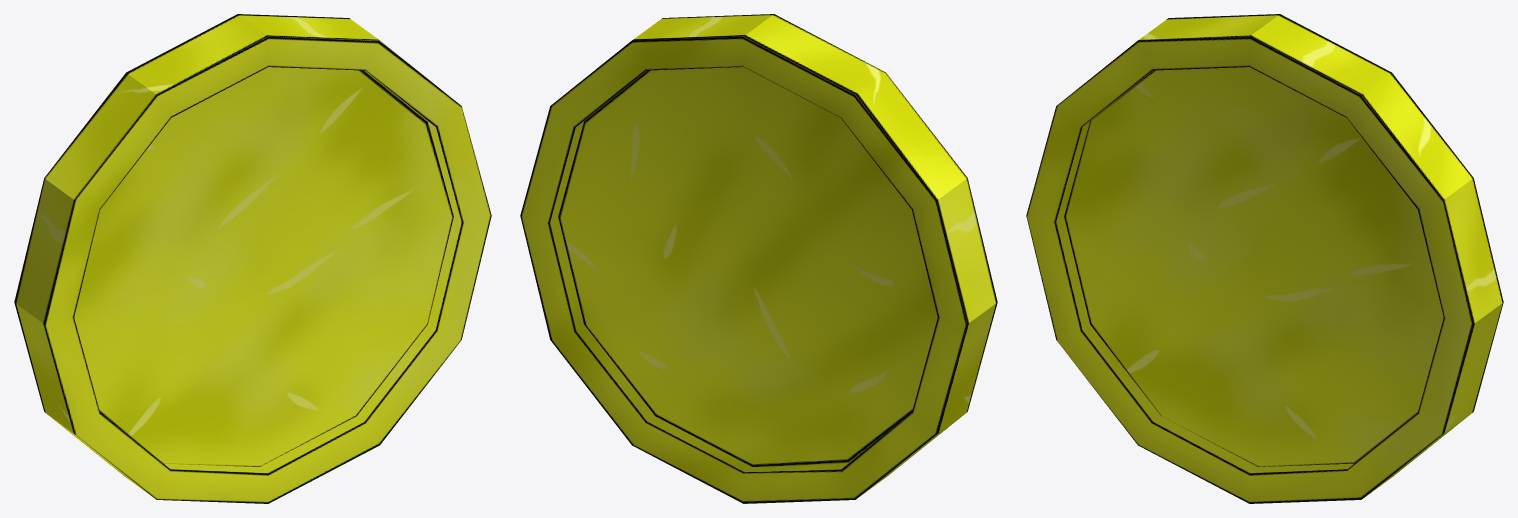
File: CoinImport.fbx
3 renders of one model, left to right at view 1: azimuth 30°, elevation 25°; view 2: azimuth 150°, elevation 25°; view 3: azimuth 330°, elevation 25°, orthographic.
Visible parts, largest first — view 1: Coin; view 2: Coin; view 3: Coin.
Boxes of the visible parts, bbox=[...] form: Coin: bbox=[14, 14, 491, 503]; Coin: bbox=[520, 14, 997, 503]; Coin: bbox=[1026, 14, 1503, 503].
Size of the model in its own units: 1 by 1 by 0.1188.
